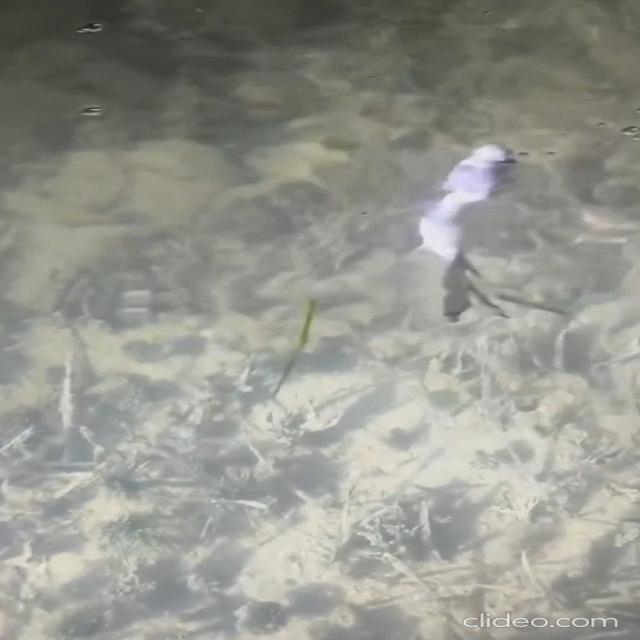fish: (419, 129, 547, 341)
